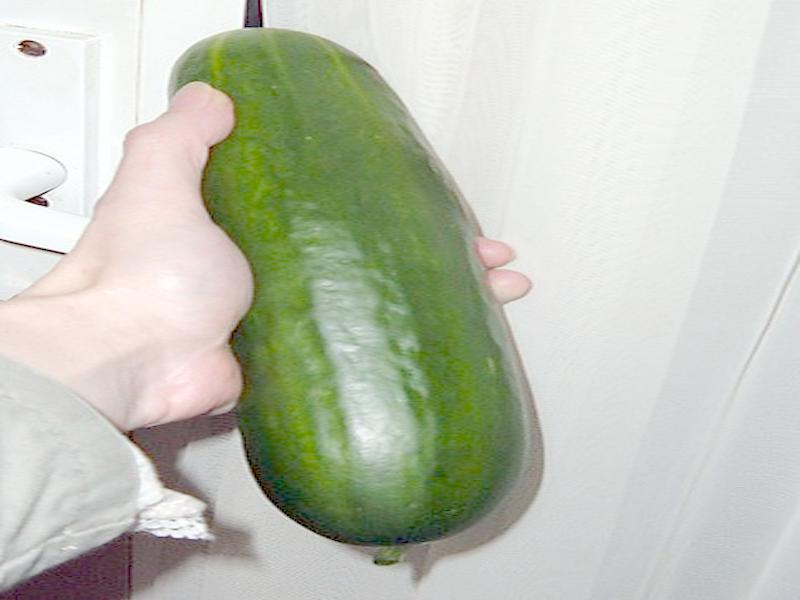Cucumber: (171, 28, 542, 566)
